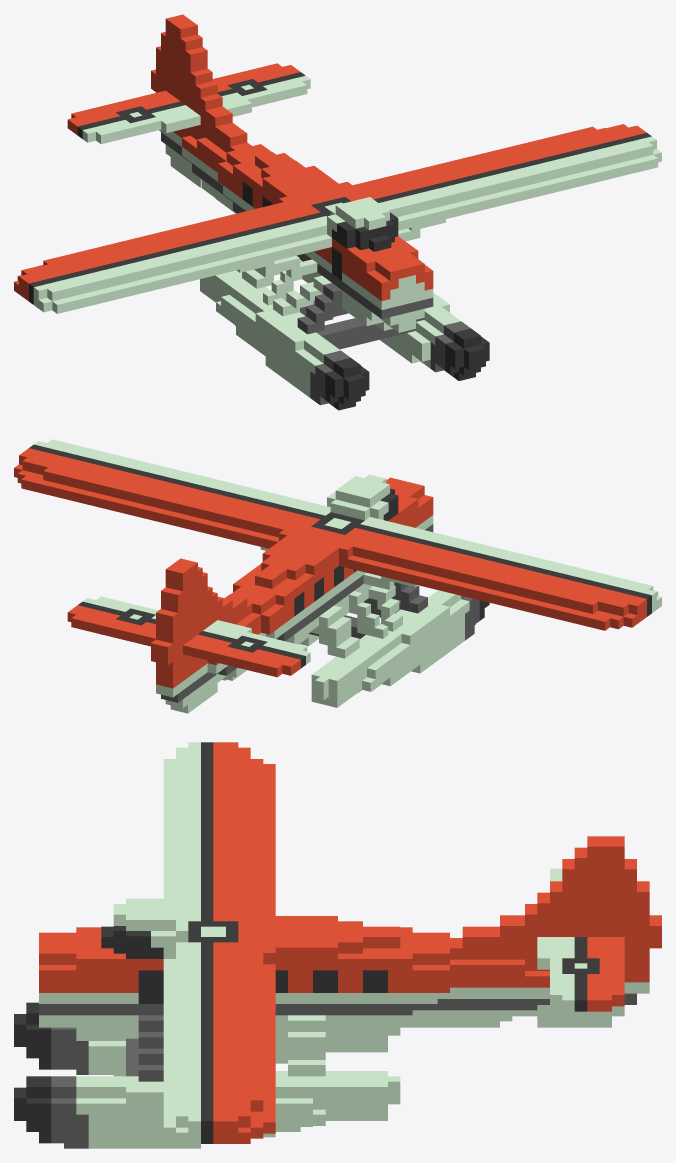
The model's file is SeaPlane.fbx.
The picture shows the model from 3 angles, top to bottom: view 1: azimuth 30°, elevation 25°; view 2: azimuth 150°, elevation 25°; view 3: azimuth 270°, elevation 25°; orthographic projection. The views are drawn at different scales.
Visible parts, largest first — view 1: SeaPlane; view 2: SeaPlane; view 3: SeaPlane.
Part boxes in pixels (bbox=[...]): SeaPlane: bbox=[14, 14, 661, 410]; SeaPlane: bbox=[14, 439, 661, 713]; SeaPlane: bbox=[14, 742, 661, 1148].
Bounding box in the file's own units: 720 × 230 × 520.
1 material, 1 textured.
